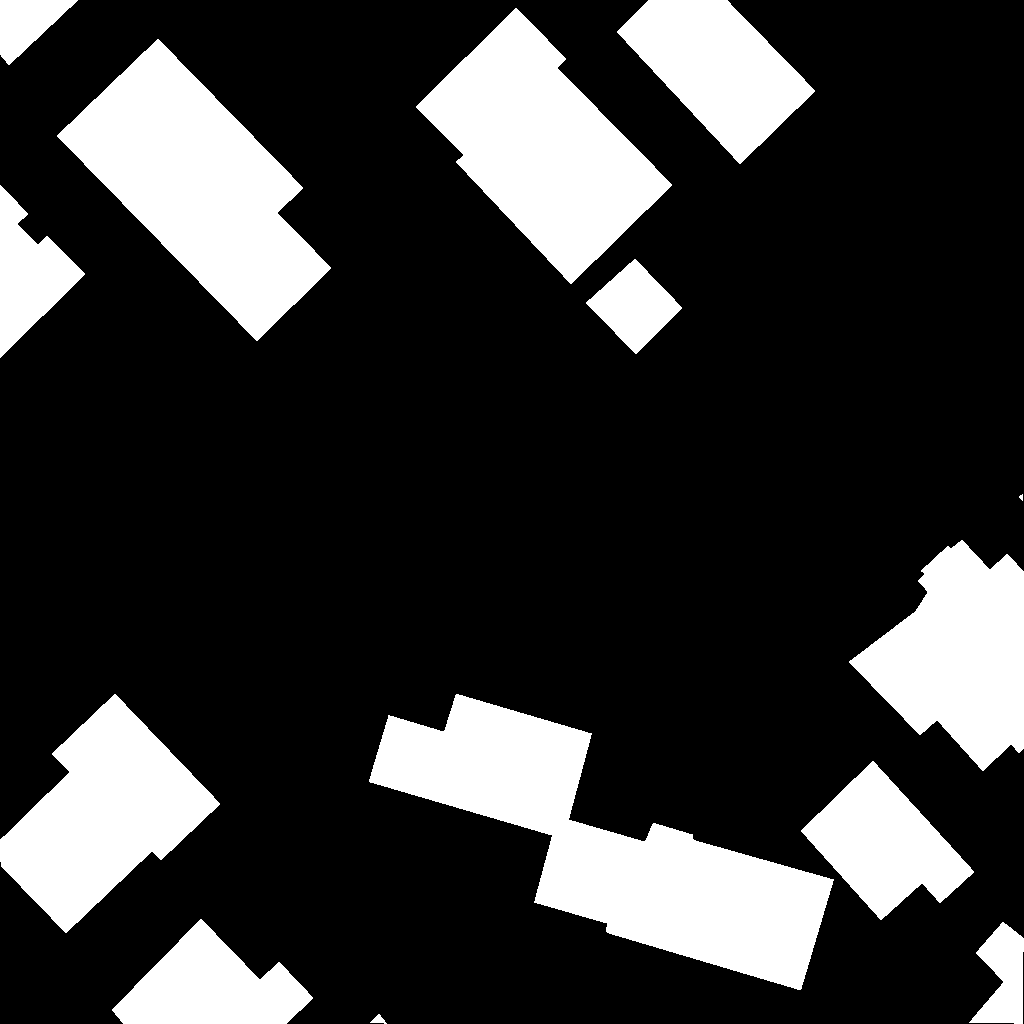building: (369, 694, 835, 991), (57, 39, 332, 342), (416, 8, 673, 285), (0, 694, 221, 934), (849, 540, 1024, 772), (617, 0, 816, 165), (801, 761, 975, 921), (112, 919, 314, 1024), (0, 185, 86, 359), (586, 259, 683, 355), (969, 922, 1024, 1024), (0, 0, 79, 66), (370, 1014, 388, 1024), (1019, 494, 1024, 502)
